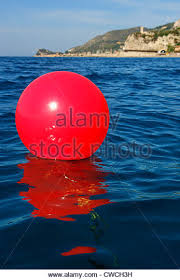buoy: (16, 70, 110, 163)
